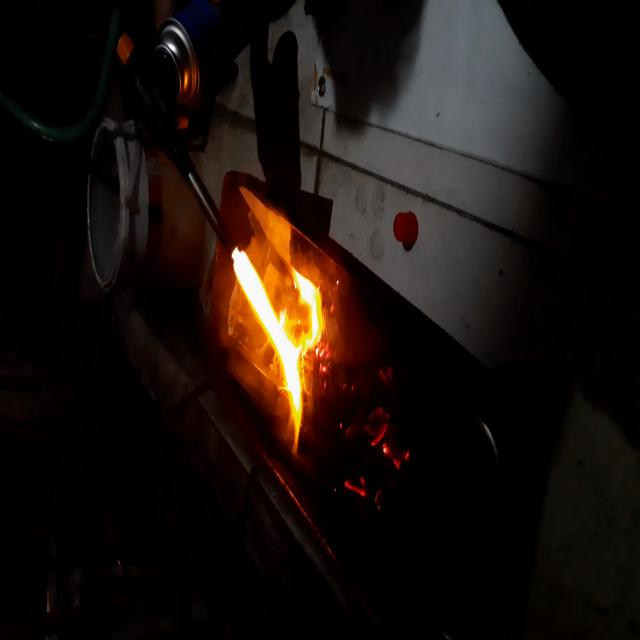Fire: (229, 237, 323, 460), (331, 351, 416, 511), (321, 253, 359, 355)
